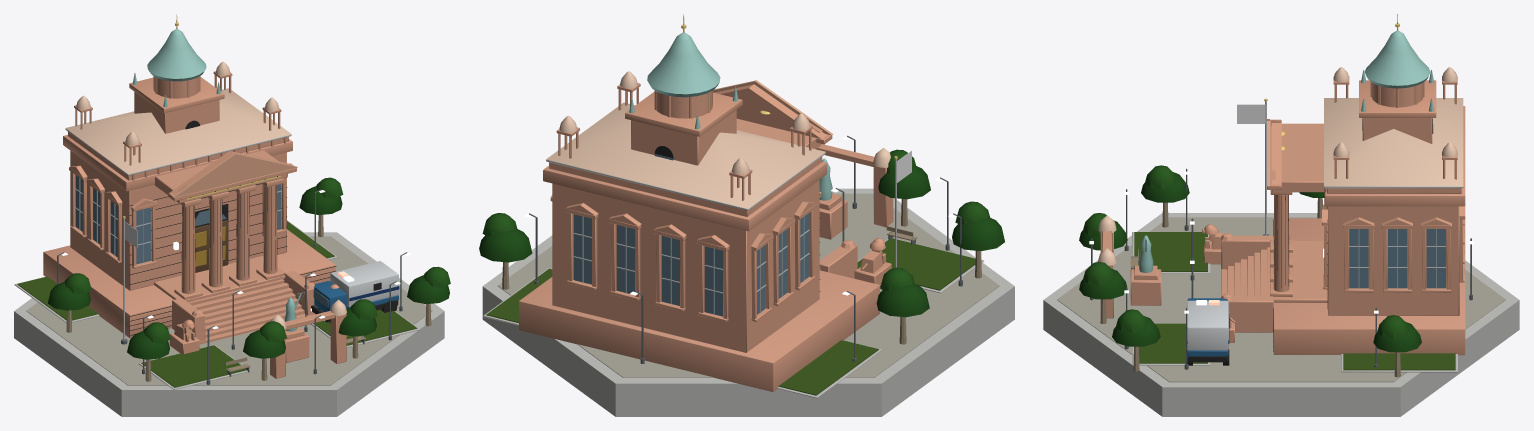
The model's file is courthouse_india.glb.
3 renders of one model, left to right at view 1: azimuth 30°, elevation 25°; view 2: azimuth 150°, elevation 25°; view 3: azimuth 270°, elevation 25°, orthographic. The views are drawn at different scales.
Parts seen in each view (by area): view 1: stone, wall_concrete, pavers, plaster, leaf, turf, dark, paint, glass, copper, wood, steel_dark (+1 smaller); view 2: stone, wall_concrete, plaster, pavers, leaf, glass, turf, copper, steel_dark, wood; view 3: stone, wall_concrete, pavers, plaster, leaf, turf, glass, copper, paint, steel_dark, dark, wood (+1 smaller).
Part boxes in pixels (left/top/right/bottom): stone: left=43, top=71, right=346, bottom=378; wall_concrete: left=14, top=129, right=444, bottom=416; pavers: left=26, top=236, right=432, bottom=385; plaster: left=65, top=61, right=346, bottom=328; leaf: left=48, top=177, right=450, bottom=359; turf: left=17, top=221, right=417, bottom=387; dark: left=129, top=120, right=398, bottom=335; paint: left=314, top=261, right=399, bottom=312; glass: left=75, top=175, right=328, bottom=307; copper: left=132, top=29, right=304, bottom=331; wood: left=66, top=214, right=431, bottom=381; steel_dark: left=56, top=189, right=407, bottom=384; stone: left=519, top=80, right=893, bottom=391; wall_concrete: left=482, top=152, right=1014, bottom=416; plaster: left=546, top=71, right=890, bottom=208; pavers: left=498, top=193, right=999, bottom=377; leaf: left=479, top=149, right=1004, bottom=317; glass: left=574, top=154, right=808, bottom=316; turf: left=486, top=238, right=975, bottom=395; copper: left=629, top=32, right=832, bottom=200; steel_dark: left=529, top=135, right=962, bottom=363; wood: left=502, top=199, right=981, bottom=344; stone: left=1100, top=76, right=1465, bottom=355; wall_concrete: left=1043, top=186, right=1519, bottom=416; pavers: left=1057, top=217, right=1505, bottom=382; plaster: left=1098, top=67, right=1463, bottom=265; leaf: left=1079, top=165, right=1421, bottom=352; turf: left=1134, top=232, right=1455, bottom=370; glass: left=1327, top=124, right=1445, bottom=288; copper: left=1138, top=30, right=1433, bottom=272; paint: left=1187, top=298, right=1229, bottom=356; steel_dark: left=1090, top=168, right=1472, bottom=369; dark: left=1187, top=118, right=1432, bottom=365; wood: left=1100, top=198, right=1400, bottom=377.
Size of the model in its own units: 21.41 by 18 by 24.6.
